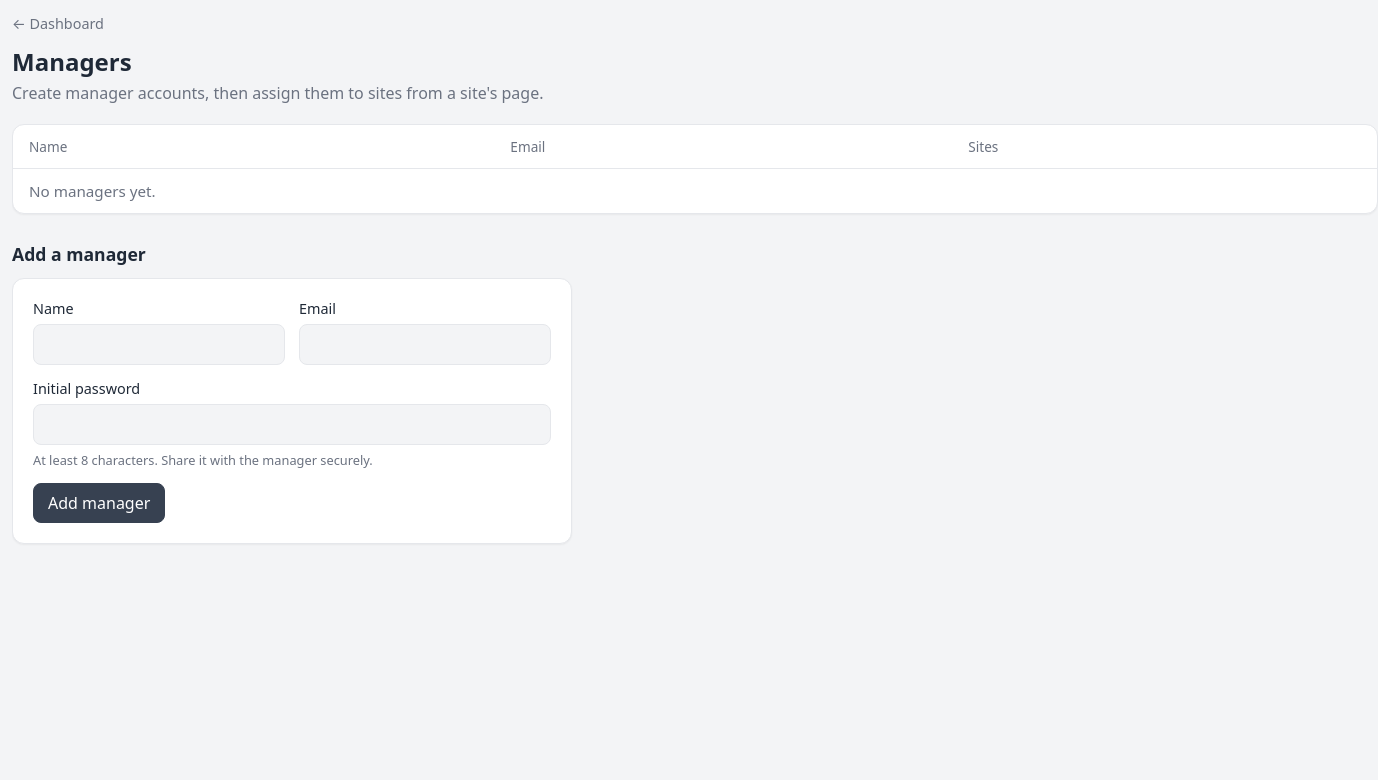
Test: ManagersPage › shows the API error
The width and height of the screenshot is (1378, 780).
Type "Mia" into the field labelled "Name".
click(159, 344); type("Mia")  # box left=33, top=324, right=285, bottom=365
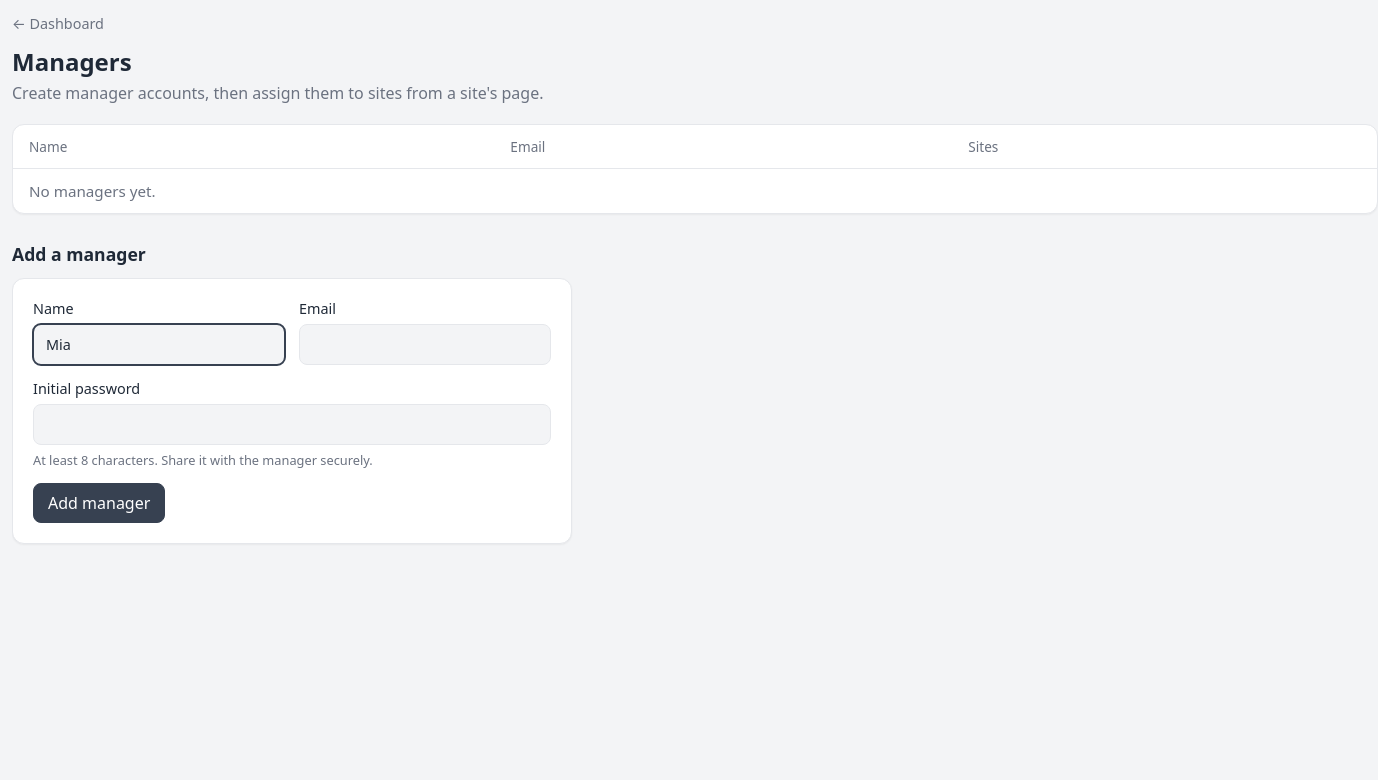
Type "mia@example.com" into the field labelled "Email".
click(425, 344); type("mia@example.com")  # box left=299, top=324, right=551, bottom=365
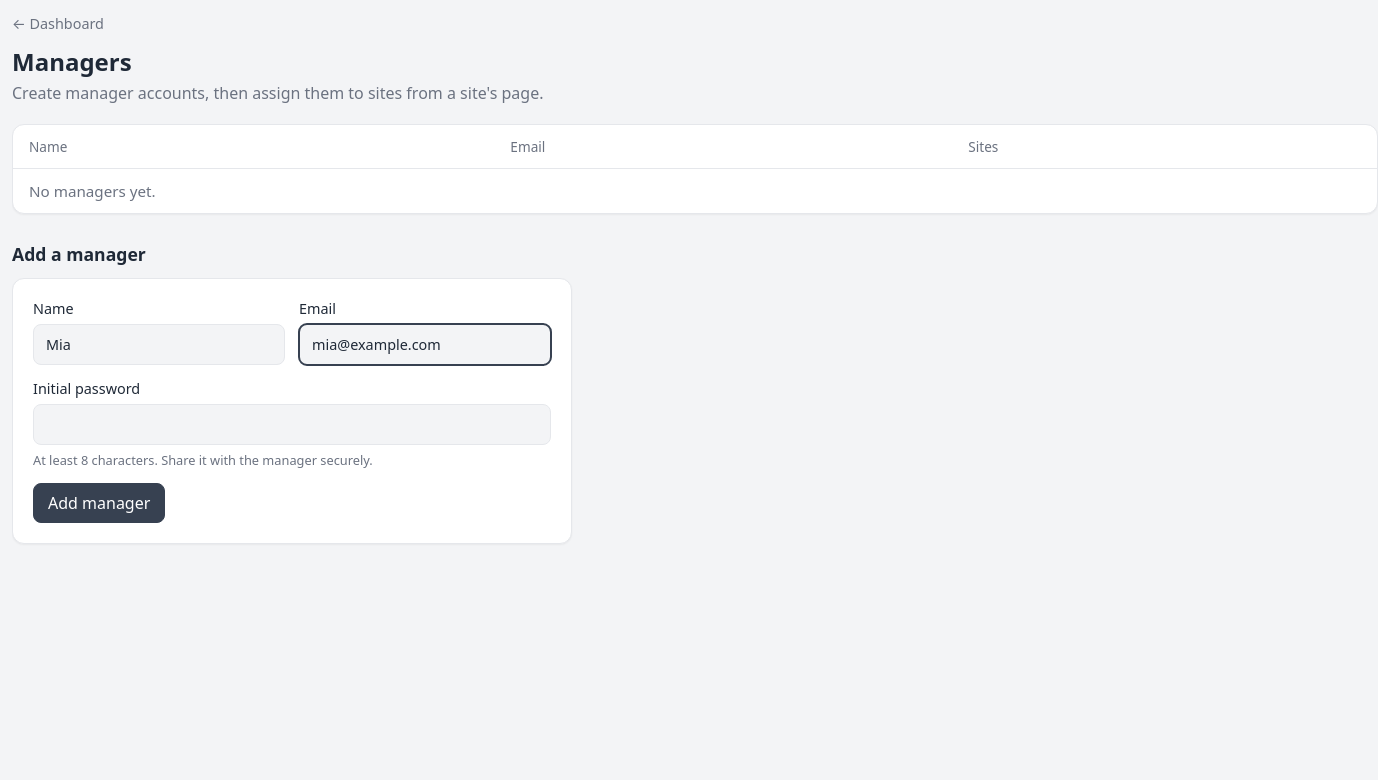
Type "password123" into the password field labelled "Initial password".
click(292, 424); type("password123")  # box left=33, top=404, right=551, bottom=445
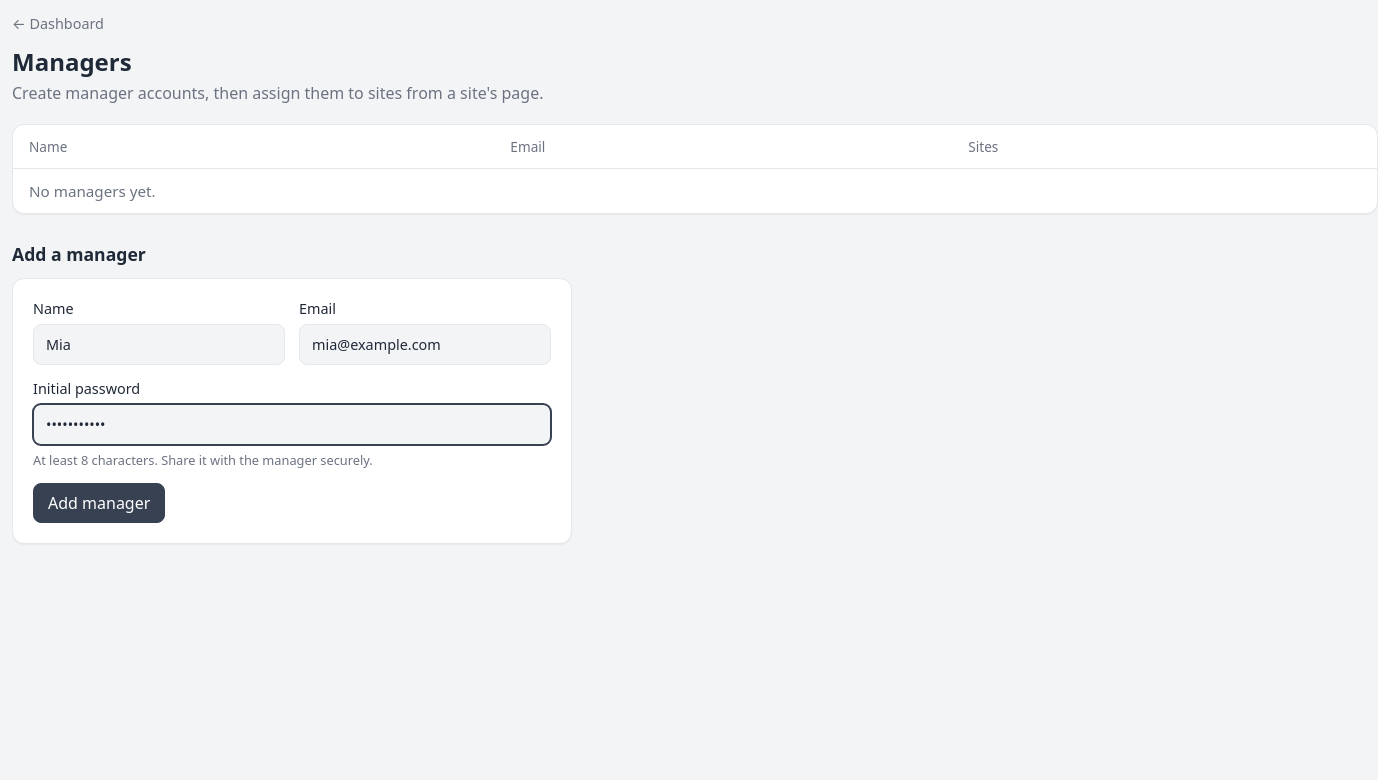
Click the button "Add manager".
click(99, 503)  # box left=33, top=483, right=165, bottom=523
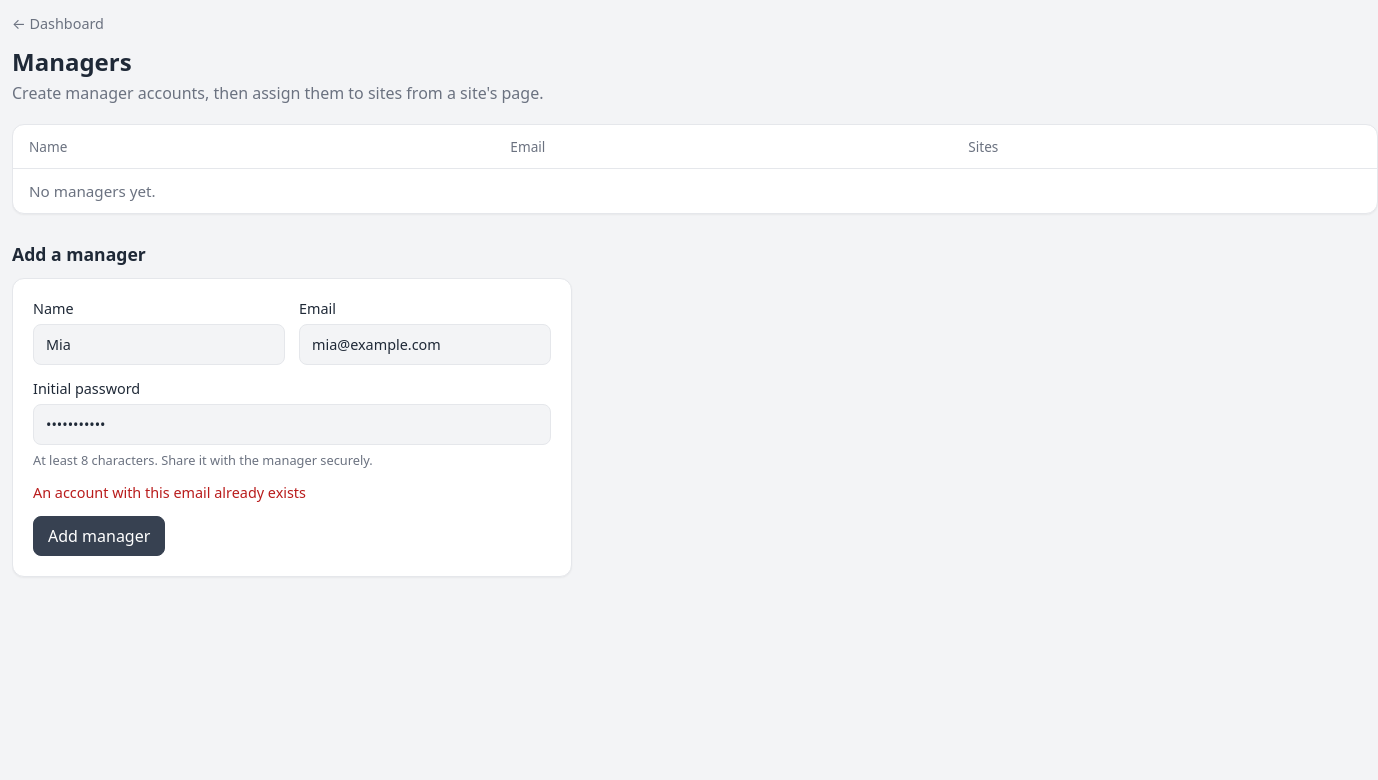
Now the message shows "already exists", box left=33, top=483, right=306, bottom=502
